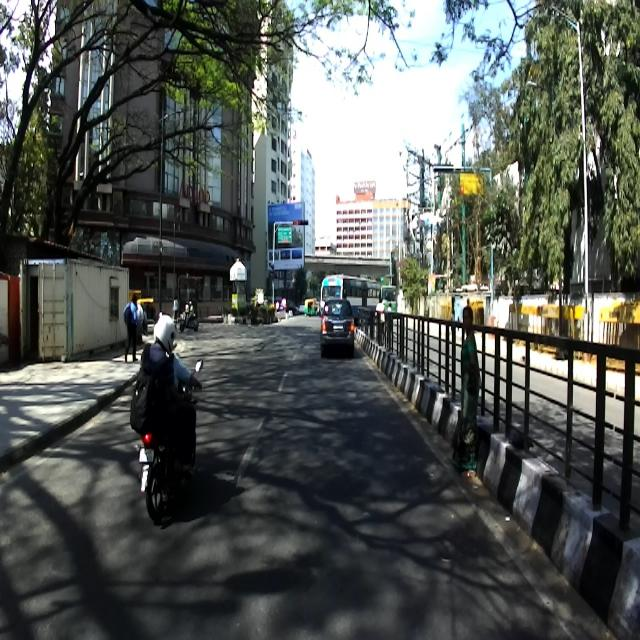car: (319, 296, 354, 352)
motorcycle: (134, 358, 202, 524)
